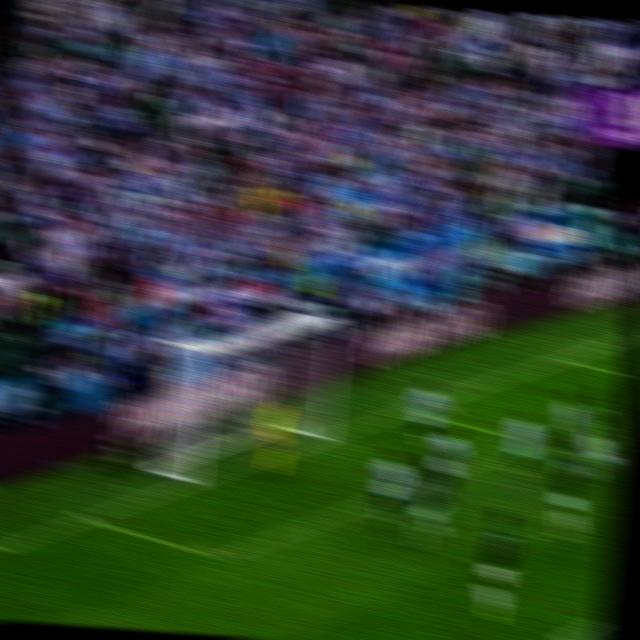bigarea_top_outter: (550, 346, 575, 369)
bottom_arc_area_intersection: (546, 617, 585, 640)
smallarea_bottom_inner: (199, 536, 240, 578)
smallarea_bottom_outter: (71, 501, 106, 535)
smallarea_top_outter: (396, 397, 423, 421)
